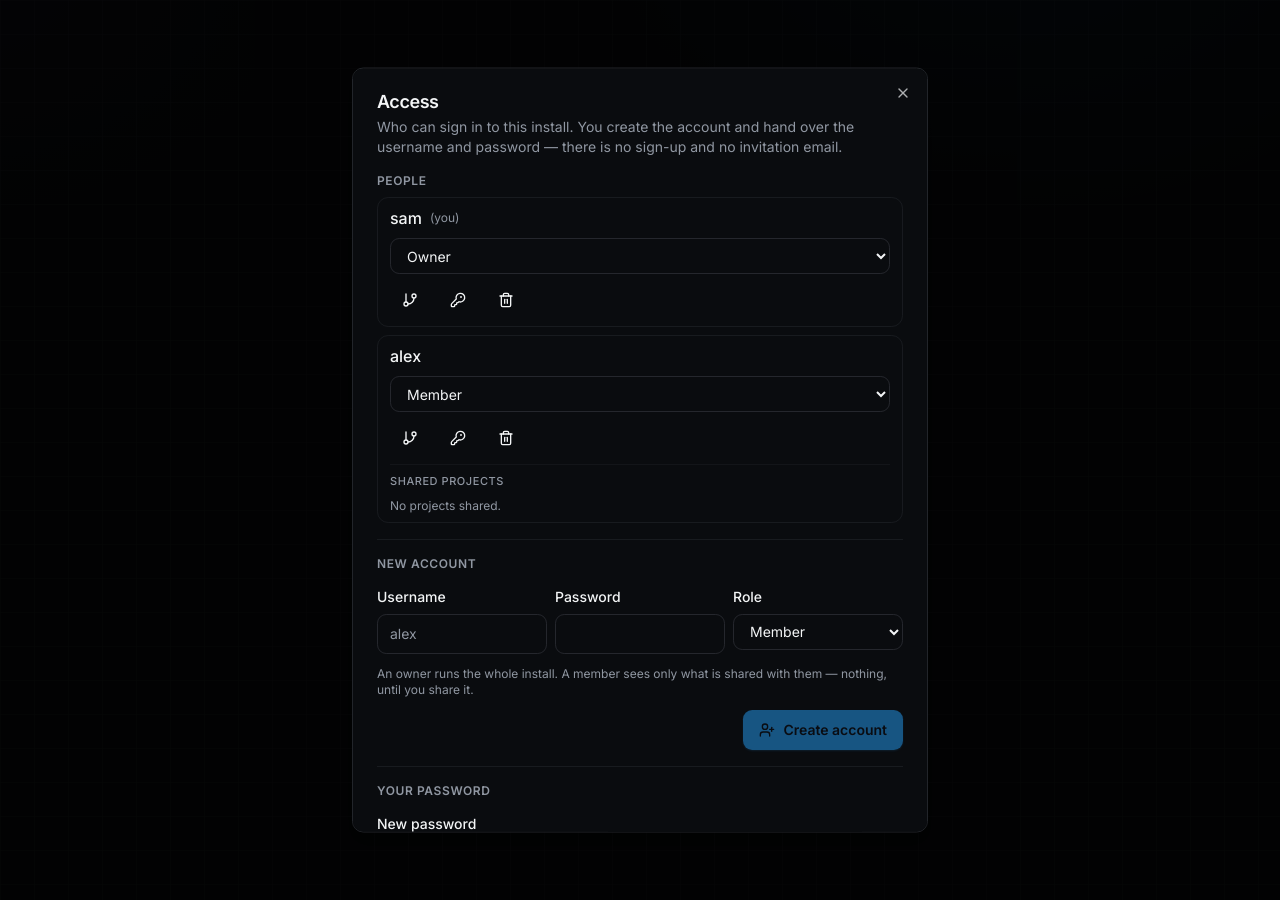
Test case: AccessDialog — a identidade no GitHub de uma pessoa › o bloco abre JÁ com o que a pessoa tem hoje
Step 1. Click the button with test id "user-git-open-u2" → x=410, y=438, box [390,420,430,456]
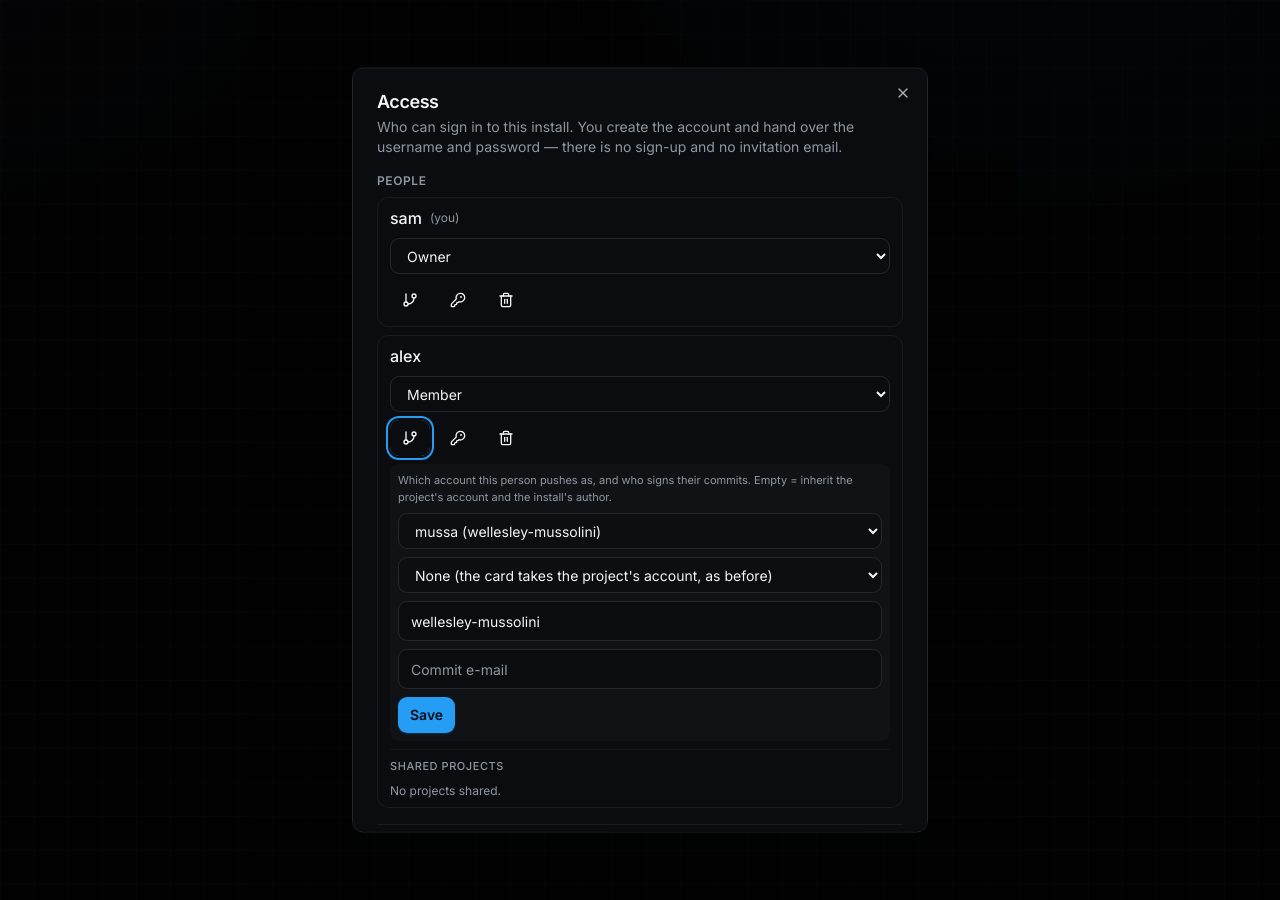
Result: the dropdown with test id "user-git-connection-u2" shows "mussa (wellesley-mussolini)" at [398,512,882,548]
Result: the field with test id "user-git-name-u2" holds "wellesley-mussolini" at [398,600,882,640]
